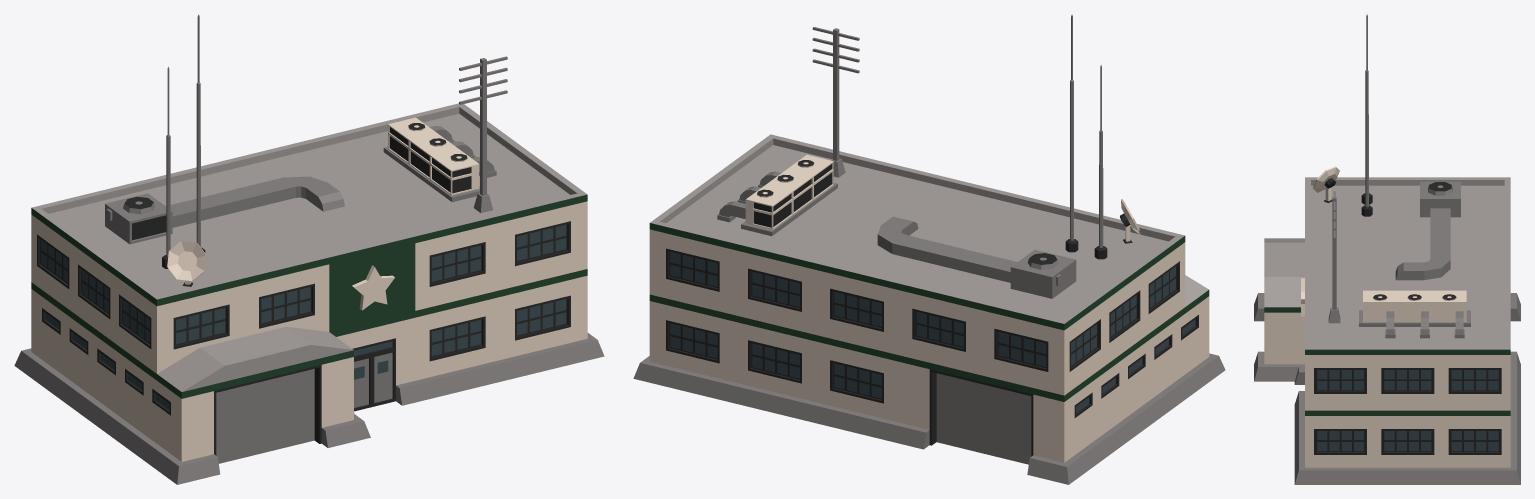
The model's file is military_military-headquarters.fbx.
3 views of the same model, side by side, from view 1: azimuth 30°, elevation 25°; view 2: azimuth 150°, elevation 25°; view 3: azimuth 270°, elevation 25° (orthographic). The views are drawn at different scales.
Visible parts, largest first — view 1: military_military_headquarters; view 2: military_military_headquarters; view 3: military_military_headquarters.
Part boxes in pixels (x1,y1,x2,y2): military_military_headquarters: [14, 14, 604, 484]; military_military_headquarters: [633, 14, 1225, 484]; military_military_headquarters: [1254, 14, 1520, 484].
Size of the model in its own units: 200 by 168 by 125.
